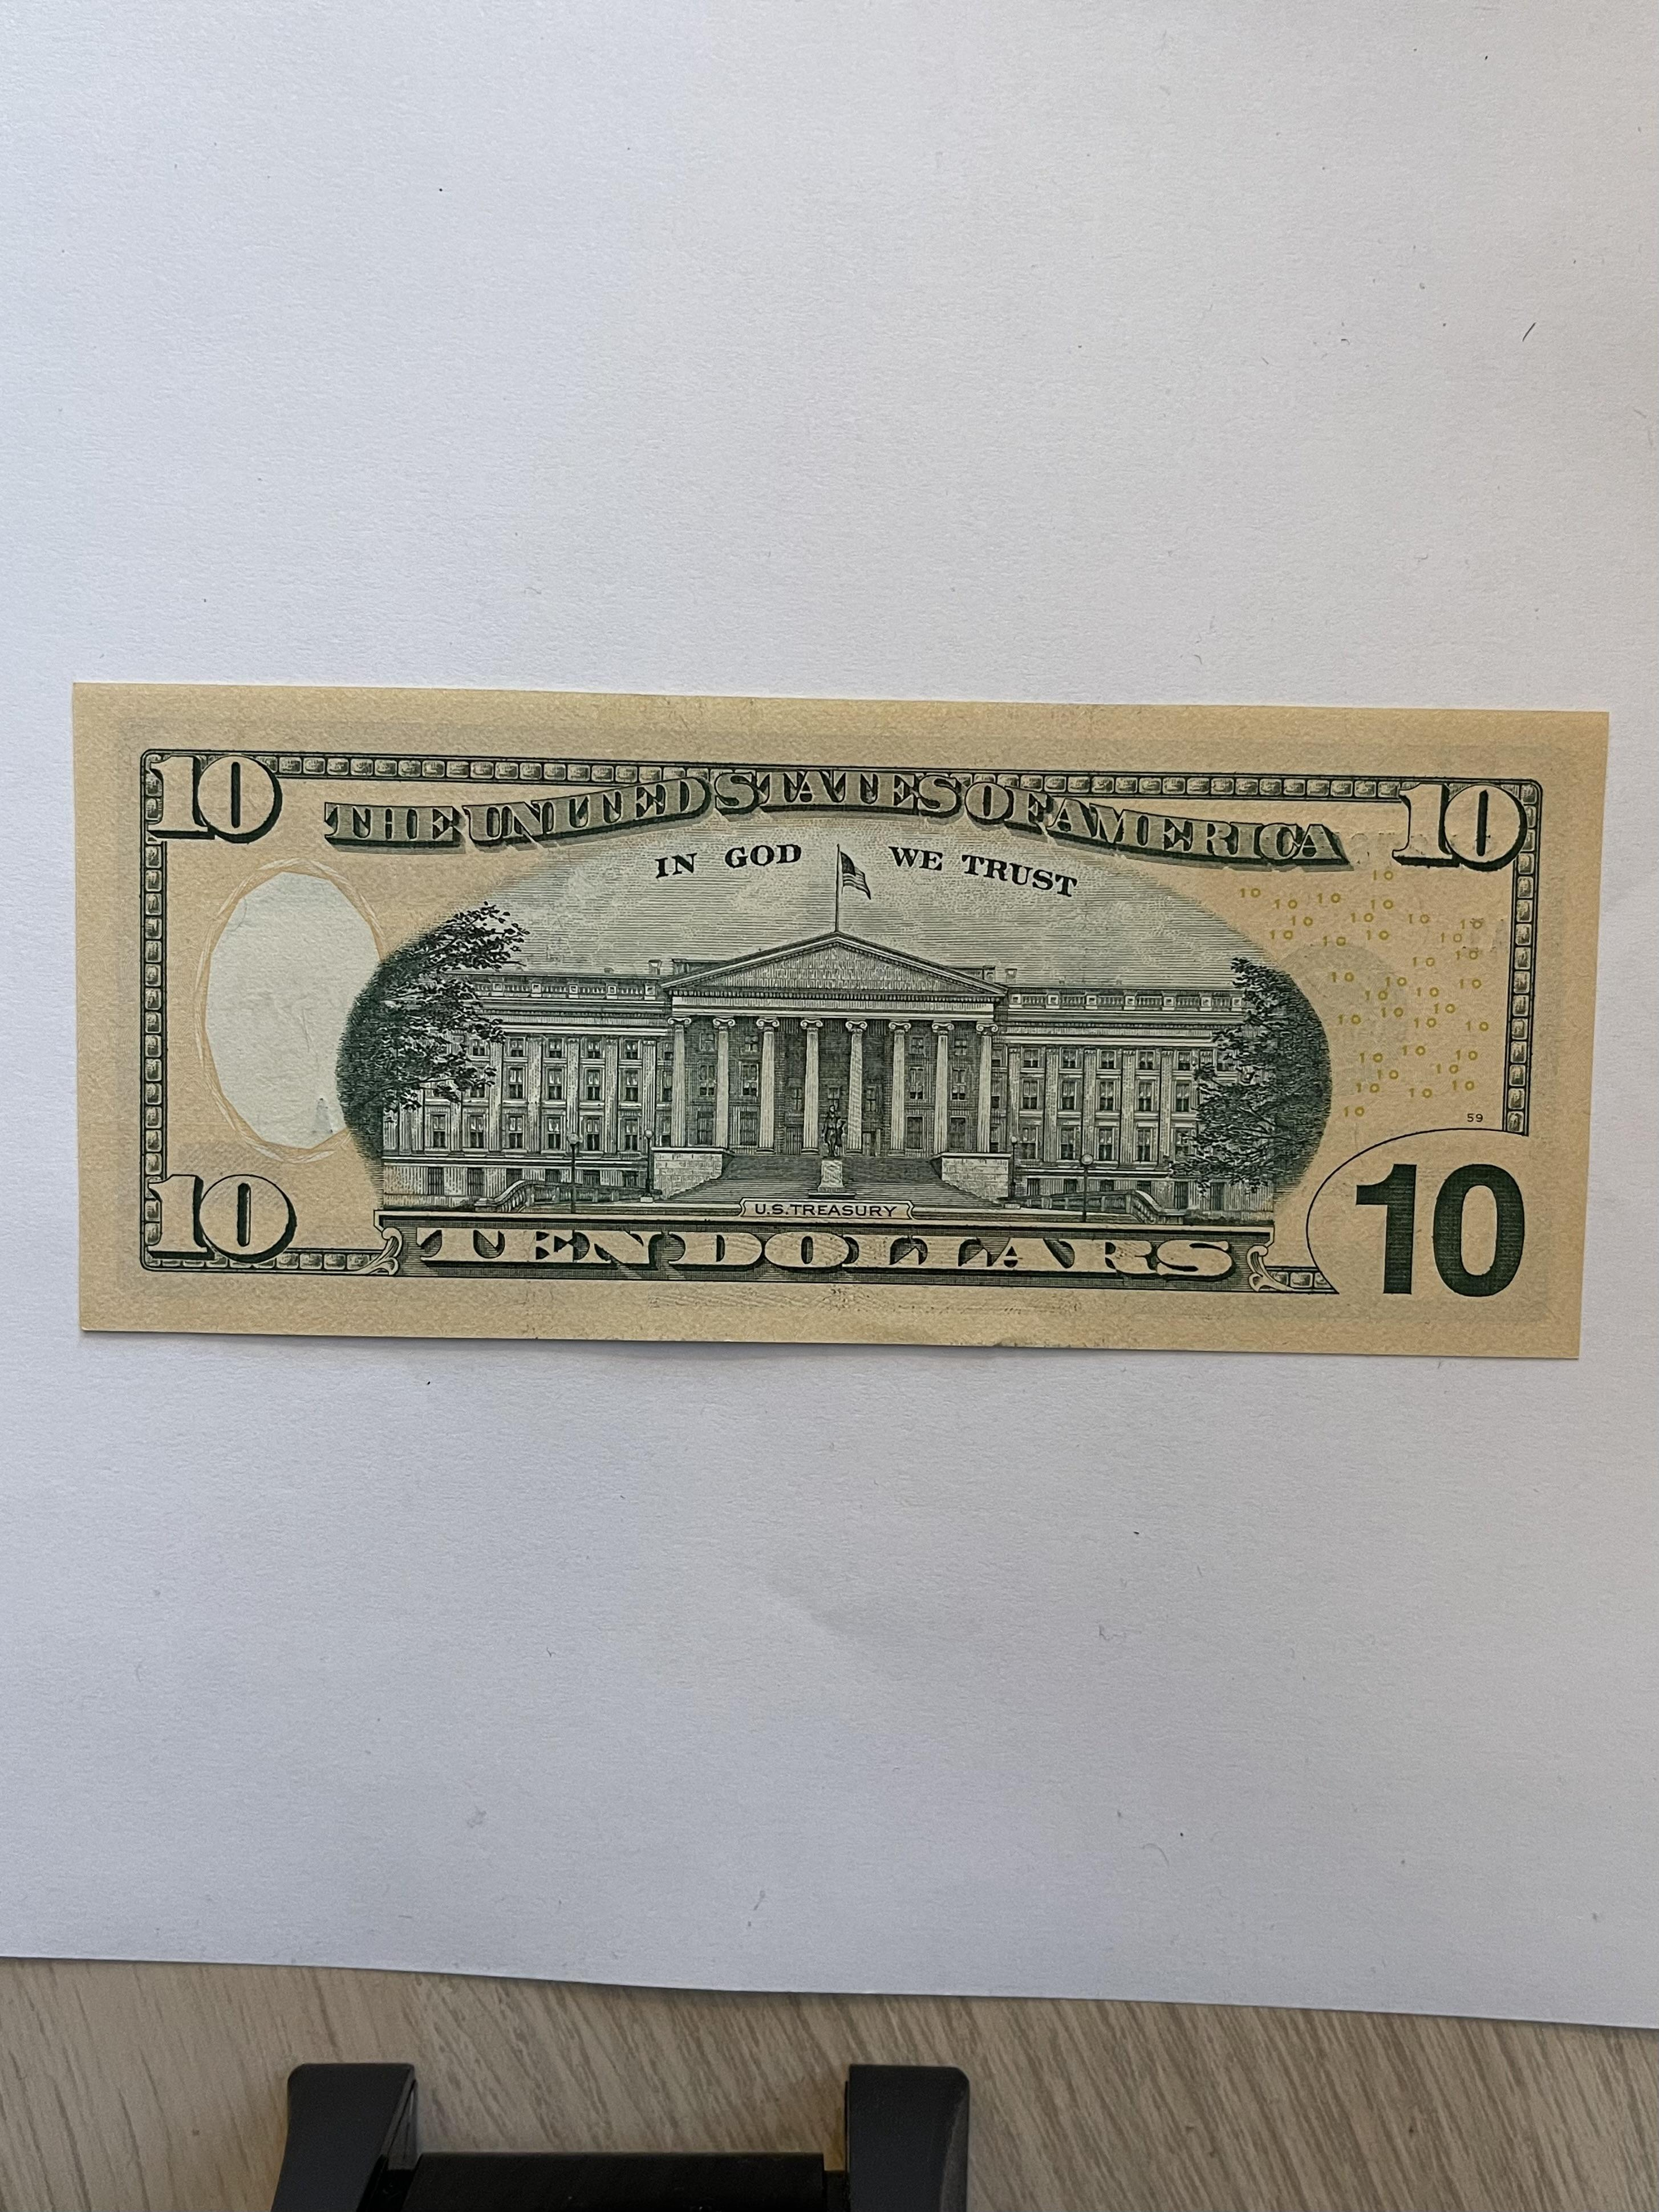TenBill: (66, 674, 1614, 1362)
